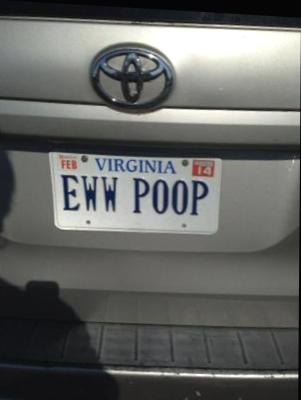License_Plate: (48, 152, 217, 224)
